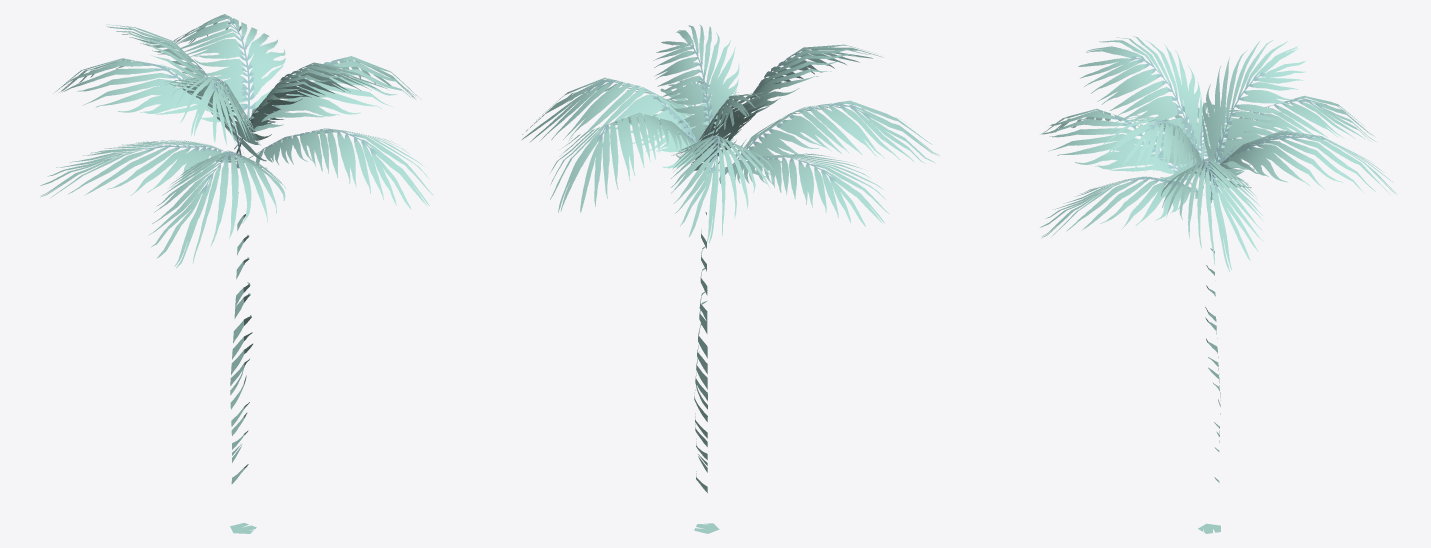
Rendered from M.coconut_tree-v3-1.fbx.
The picture shows the model from 3 angles, left to right: view 1: azimuth 30°, elevation 25°; view 2: azimuth 150°, elevation 25°; view 3: azimuth 270°, elevation 25°; orthographic projection. The views are drawn at different scales.
Parts seen in each view (by area): view 1: leaf2.028; view 2: leaf2.028; view 3: leaf2.028.
Part boxes in pixels (left/top/right/bottom): leaf2.028: left=40, top=14, right=433, bottom=533; leaf2.028: left=521, top=24, right=939, bottom=533; leaf2.028: left=1040, top=36, right=1396, bottom=533.
Bounding box in the file's own units: 594 × 745 × 627.
